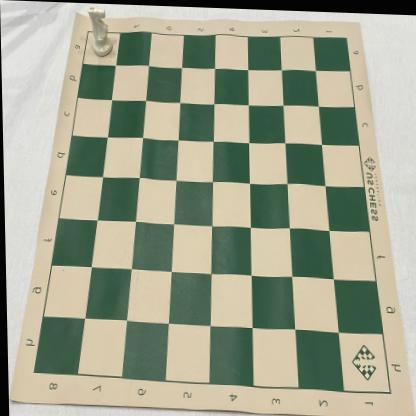white-knight: (87, 5, 114, 58)
